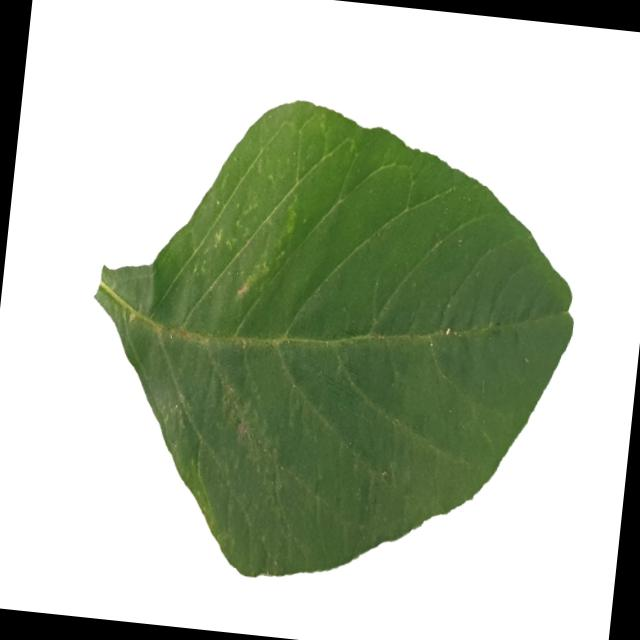Medicinal-Arive Dantu: (70, 78, 594, 612)
